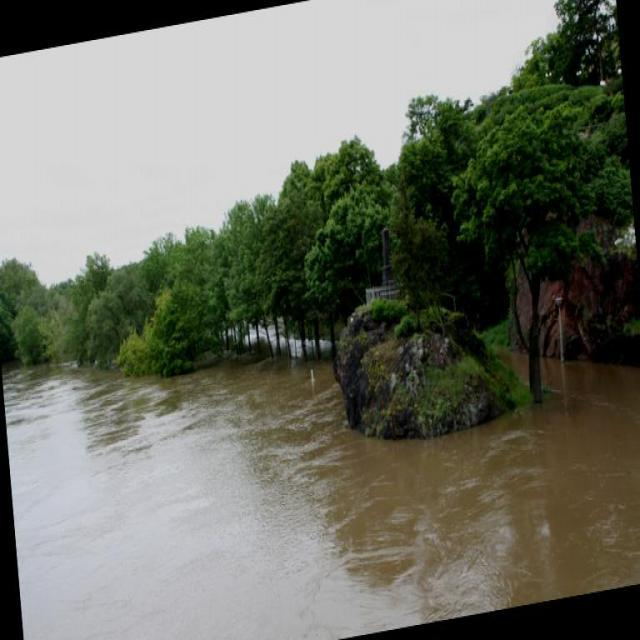flood: (2, 254, 639, 639)
